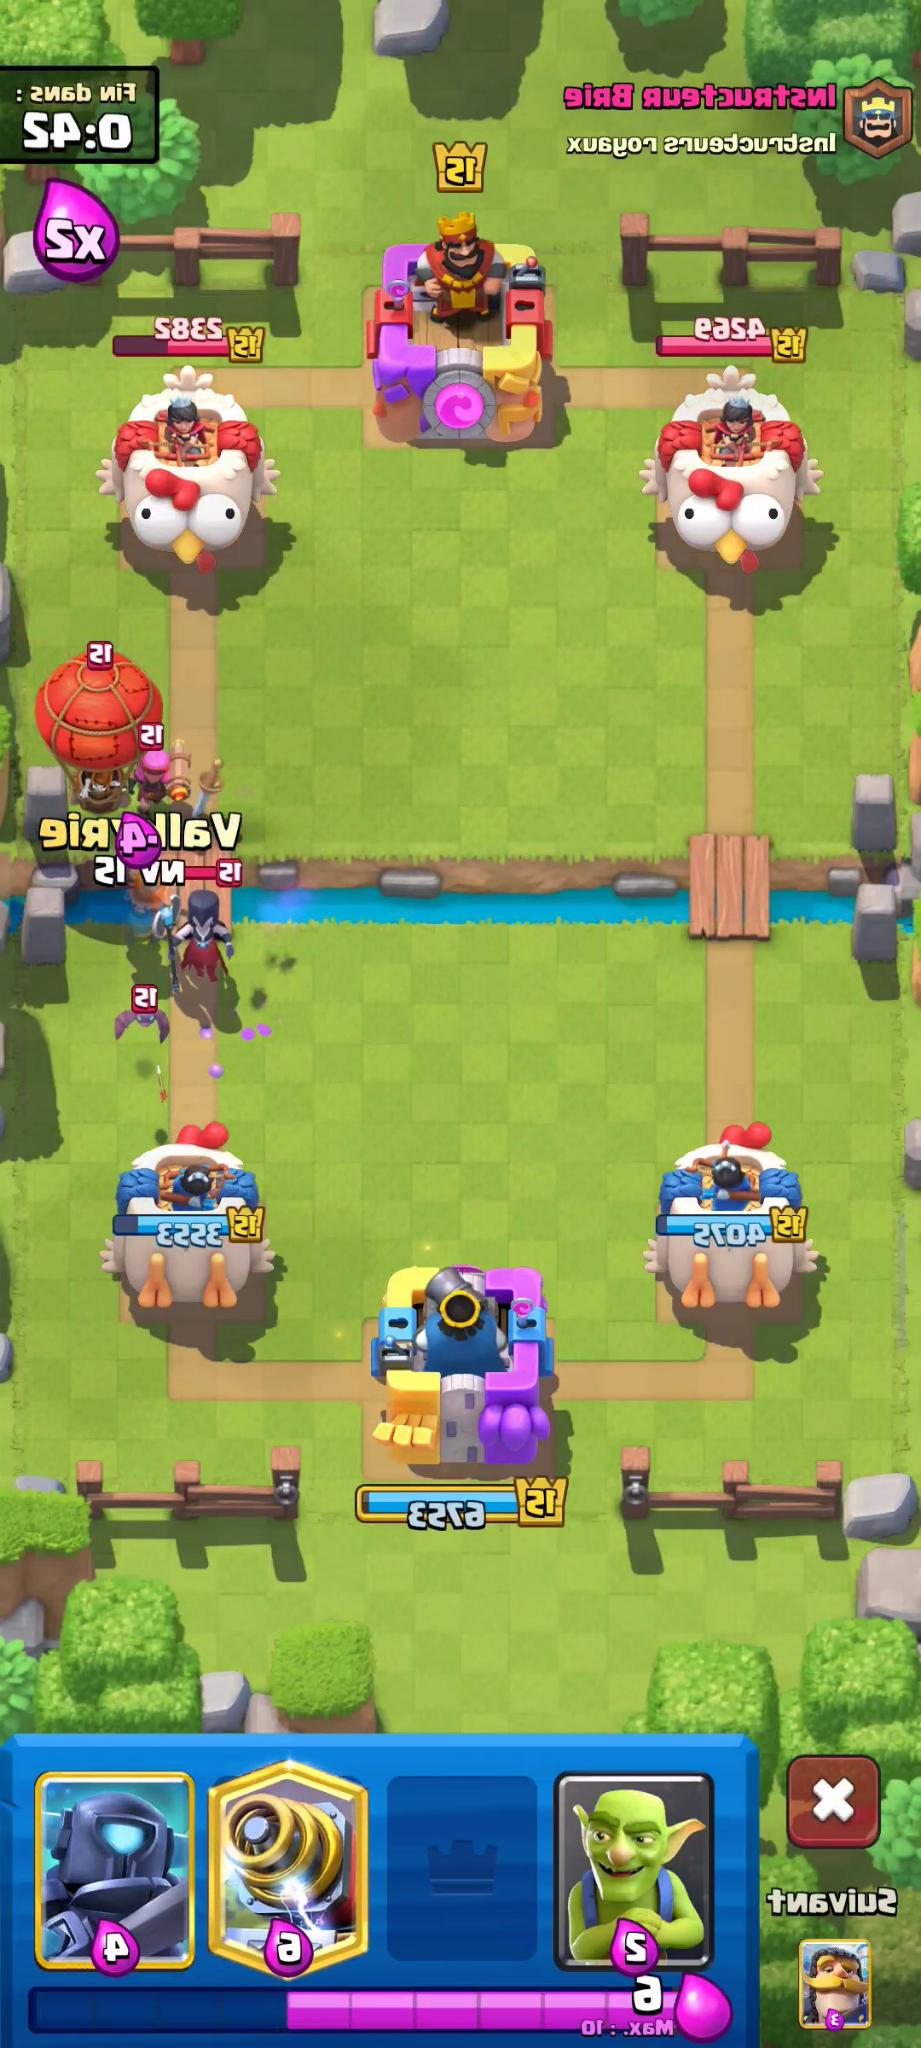bat: (108, 985, 184, 1049)
